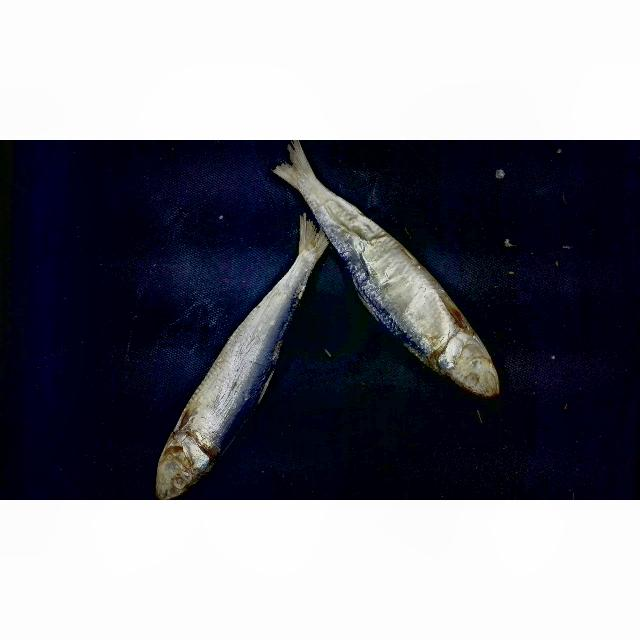Grade_A_Body: (153, 285, 320, 427), (328, 245, 492, 334)
Grade_A_Head: (398, 339, 520, 399), (136, 430, 235, 500)
Grade_A_Tail: (256, 146, 410, 241), (259, 220, 333, 277)
